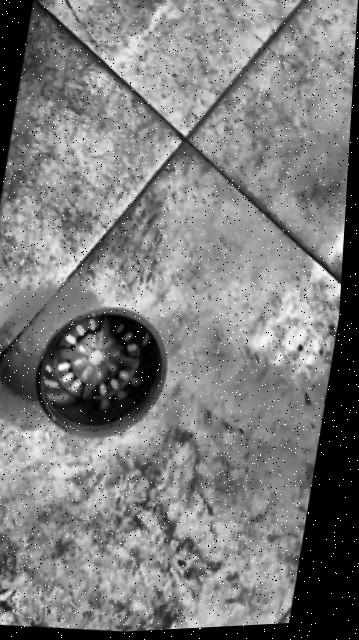pot: (22, 298, 175, 445)
